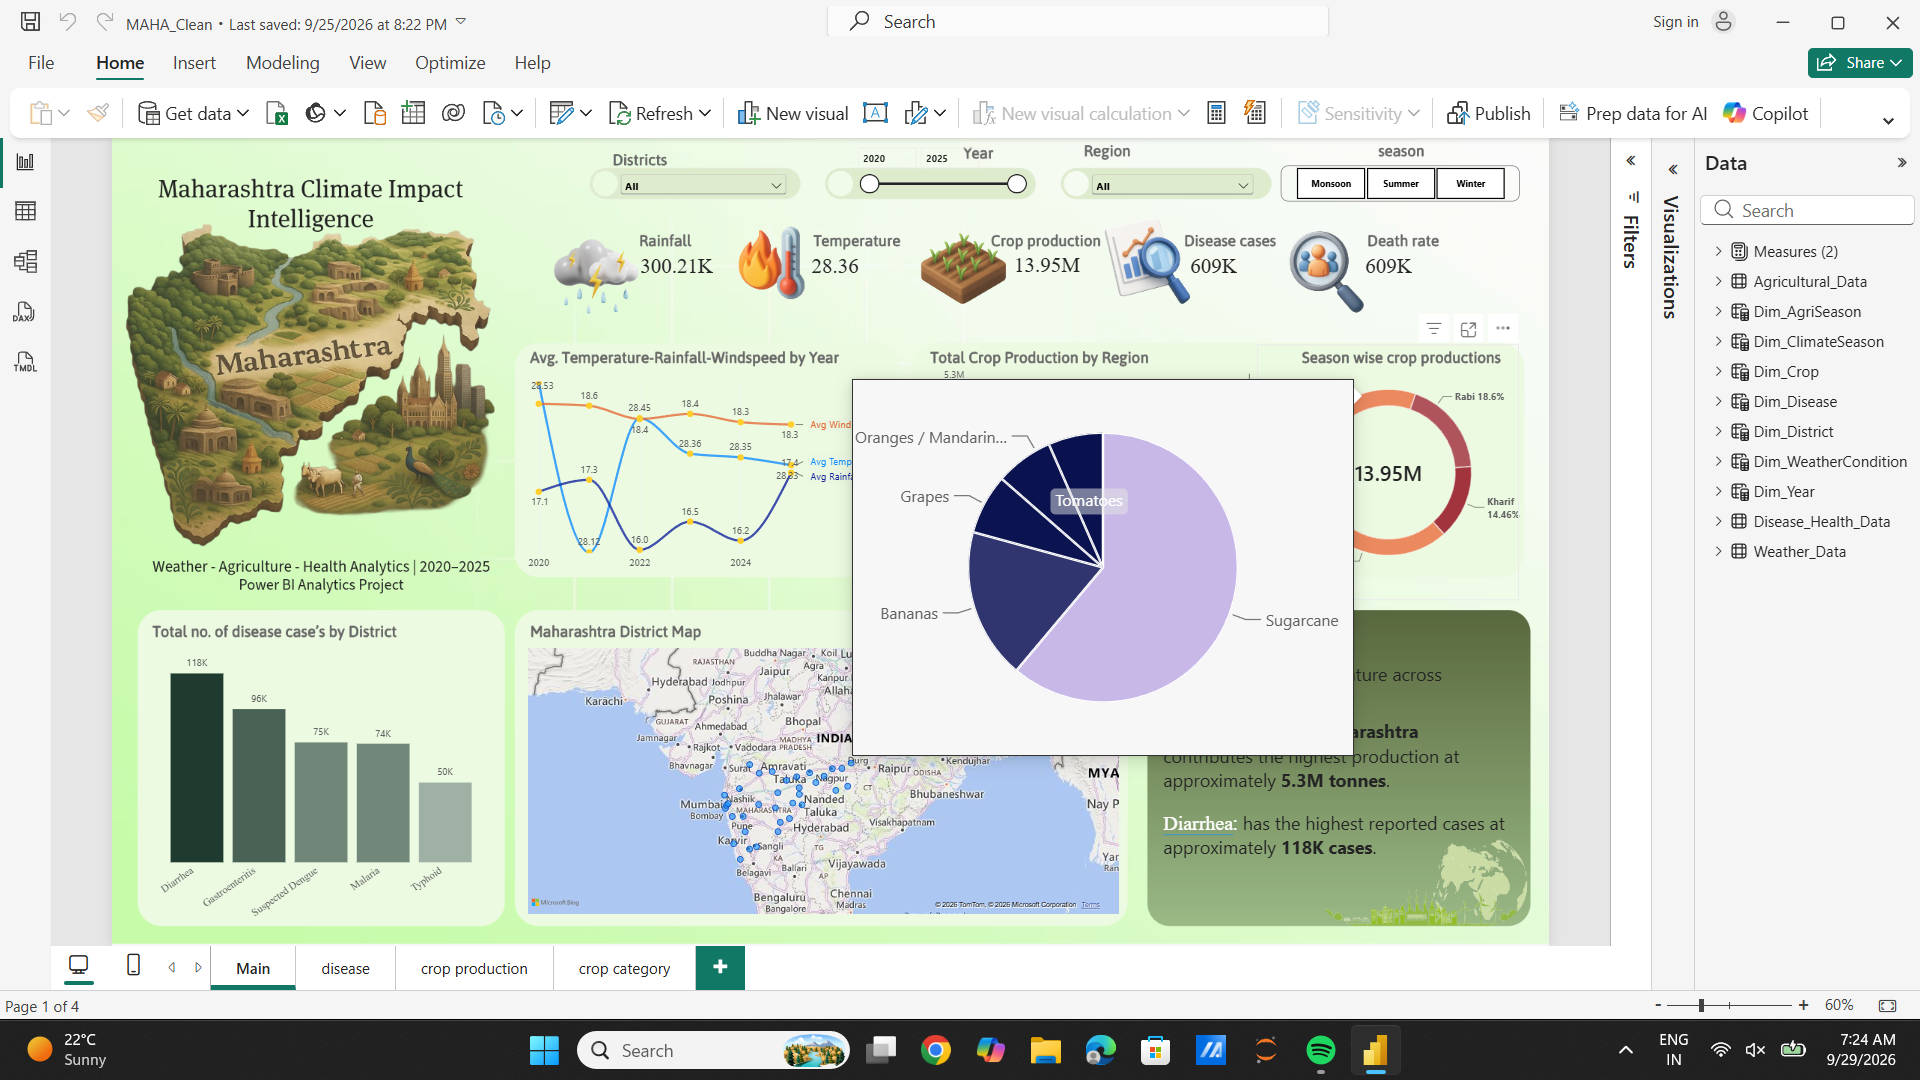

The page's visual inventory and layout, read from the dashboard file:
{"tool":"powerbi","page":{"name":"Main","canvas":[1920,1080],"ordinal":0},"visuals":[{"type":"cardVisual","fields":{"Data":["Measures (2).Total Rainfall"]},"box":[689,117.8,143.2,106.8],"z":0},{"type":"cardVisual","fields":{"Data":["Measures (2).Avg Temperature"]},"box":[917.8,117.8,174.8,106.7],"z":1000},{"type":"cardVisual","fields":{"Data":["Measures (2).Total Production"]},"box":[1189.7,117.5,174.8,106.7],"z":2000},{"type":"cardVisual","fields":{"Data":["Measures (2).Total Cases"]},"box":[1424.4,117.8,209.4,106.6],"z":3000},{"type":"cardVisual","fields":{"Data":["Measures (2).Total Deaths"]},"box":[1658.1,117.7,174.8,106.7],"z":4000},{"type":"slicer","fields":{"Values":["Dim_District.District"]},"box":[674.6,44.1,231.4,41.5],"z":5000},{"type":"slicer","fields":{"Values":["Dim_Year.Year"]},"box":[988.1,8.5,236.4,77.1],"z":6000},{"type":"slicer","fields":{"Values":["Dim_District.Region"]},"box":[1304.2,44.1,225.4,41.5],"z":7000},{"type":"columnChart","fields":{"Category":["Dim_District.Region"],"Y":["dax demo.Total Production"]},"box":[1047.5,293.2,482.2,290.7],"z":8000},{"type":"lineChart","fields":{"Category":["Dim_Year.Year"],"Y":["Measures (2).Avg Temperature"],"Y2":["Measures (2).Avg Rainfall","Measures (2).Avg Wind Speed"]},"box":[555.8,316.6,480.4,261.4],"z":9000},{"type":"columnChart","fields":{"Y":["Measures (2).Total Cases"],"Category":["Disease_Health_Data.DISEASE"]},"box":[45.4,681.4,470.1,376.3],"z":10000},{"type":"slicer","fields":{"Values":["Disease_Health_Data.SEASON"]},"box":[1561.3,37.1,319.4,48.4],"z":11000},{"type":"donutChart","fields":{"Category":["Agricultural_Data.SEASON"],"Y":["Measures (2).Total Production"]},"box":[1529.5,276.1,351.5,342.3],"z":12000},{"type":"map","fields":{"Category":["Dim_District.District"]},"box":[556.7,681.4,788.7,354.6],"z":13000},{"type":"textbox","box":[1404.3,699.4,462,77.3],"z":14000},{"type":"textbox","box":[906,75,150,150],"z":15000},{"type":"textbox","box":[45,75,470,150],"z":16000},{"type":"textbox","box":[1404.3,776.7,462,117.8],"z":16001},{"type":"textbox","box":[1404.3,894.5,462,128.8],"z":16002}]}

Visuals, with their boxes on the page's 1920x1080 design canvas (x1, y1, x2, y2). These are canvas units, not pixel positions in the 1920x1080 screenshot, which may show the page scaled, cropped or inside an application window:
cardVisual - Measures (2).Total Rainfall: (689, 118, 832, 225)
cardVisual - Measures (2).Avg Temperature: (918, 118, 1093, 224)
cardVisual - Measures (2).Total Production: (1190, 118, 1364, 224)
cardVisual - Measures (2).Total Cases: (1424, 118, 1634, 224)
cardVisual - Measures (2).Total Deaths: (1658, 118, 1833, 224)
slicer - Dim_District.District: (675, 44, 906, 86)
slicer - Dim_Year.Year: (988, 8, 1224, 86)
slicer - Dim_District.Region: (1304, 44, 1530, 86)
columnChart - Dim_District.Region x dax demo.Total Production: (1048, 293, 1530, 584)
lineChart - Dim_Year.Year x Measures (2).Avg Temperature: (556, 317, 1036, 578)
columnChart - Measures (2).Total Cases x Disease_Health_Data.DISEASE: (45, 681, 516, 1058)
slicer - Disease_Health_Data.SEASON: (1561, 37, 1881, 86)
donutChart - Agricultural_Data.SEASON x Measures (2).Total Production: (1530, 276, 1881, 618)
map - Dim_District.District: (557, 681, 1345, 1036)
textbox: (1404, 699, 1866, 777)
textbox: (906, 75, 1056, 225)
textbox: (45, 75, 515, 225)
textbox: (1404, 777, 1866, 894)
textbox: (1404, 894, 1866, 1023)
